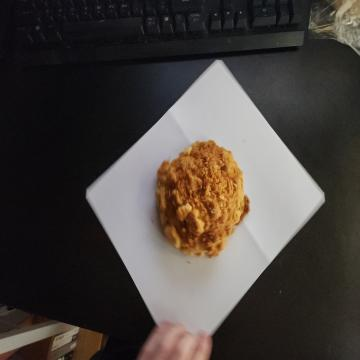soboru_bread: (153, 139, 249, 259)
